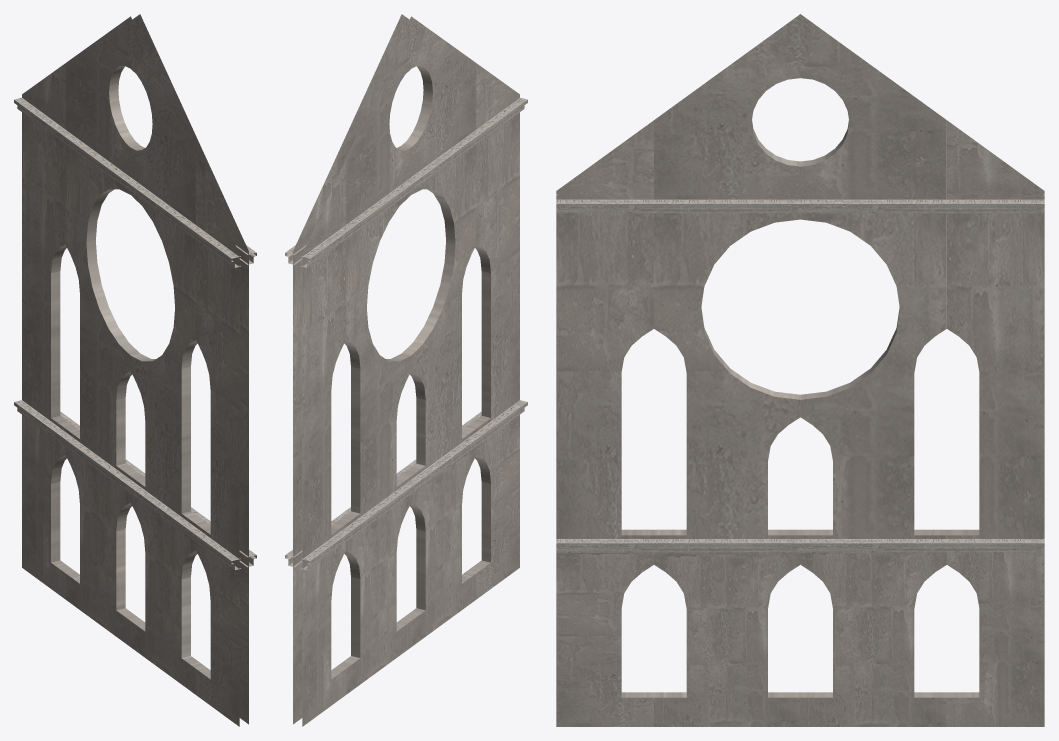
File: wall_01.fbx
3 views of the same model, side by side, from view 1: azimuth 30°, elevation 25°; view 2: azimuth 150°, elevation 25°; view 3: azimuth 270°, elevation 25° (orthographic). The views are drawn at different scales.
Parts seen in each view (by area): view 1: Box009, Rectangle044, Rectangle043, Rectangle046, Rectangle045; view 2: Box009, Rectangle043, Rectangle044, Rectangle045, Rectangle046; view 3: Box009, Rectangle045, Rectangle046, Rectangle044, Rectangle043.
Part boxes in pixels (left/top/right/bottom): Box009: left=22, top=14, right=248, bottom=726; Rectangle044: left=123, top=476, right=256, bottom=570; Rectangle043: left=14, top=400, right=145, bottom=490; Rectangle046: left=123, top=177, right=256, bottom=267; Rectangle045: left=14, top=98, right=130, bottom=187; Box009: left=293, top=14, right=519, bottom=726; Rectangle043: left=285, top=476, right=418, bottom=570; Rectangle044: left=396, top=400, right=527, bottom=490; Rectangle045: left=285, top=177, right=418, bottom=267; Rectangle046: left=411, top=98, right=527, bottom=187; Box009: left=556, top=14, right=1044, bottom=726; Rectangle045: left=800, top=190, right=1044, bottom=213; Rectangle046: left=556, top=190, right=800, bottom=213; Rectangle044: left=556, top=529, right=800, bottom=552; Rectangle043: left=800, top=529, right=1044, bottom=552.
Bounding box in the file's own units: 16 × 240 × 384.
1 material, 1 textured.
